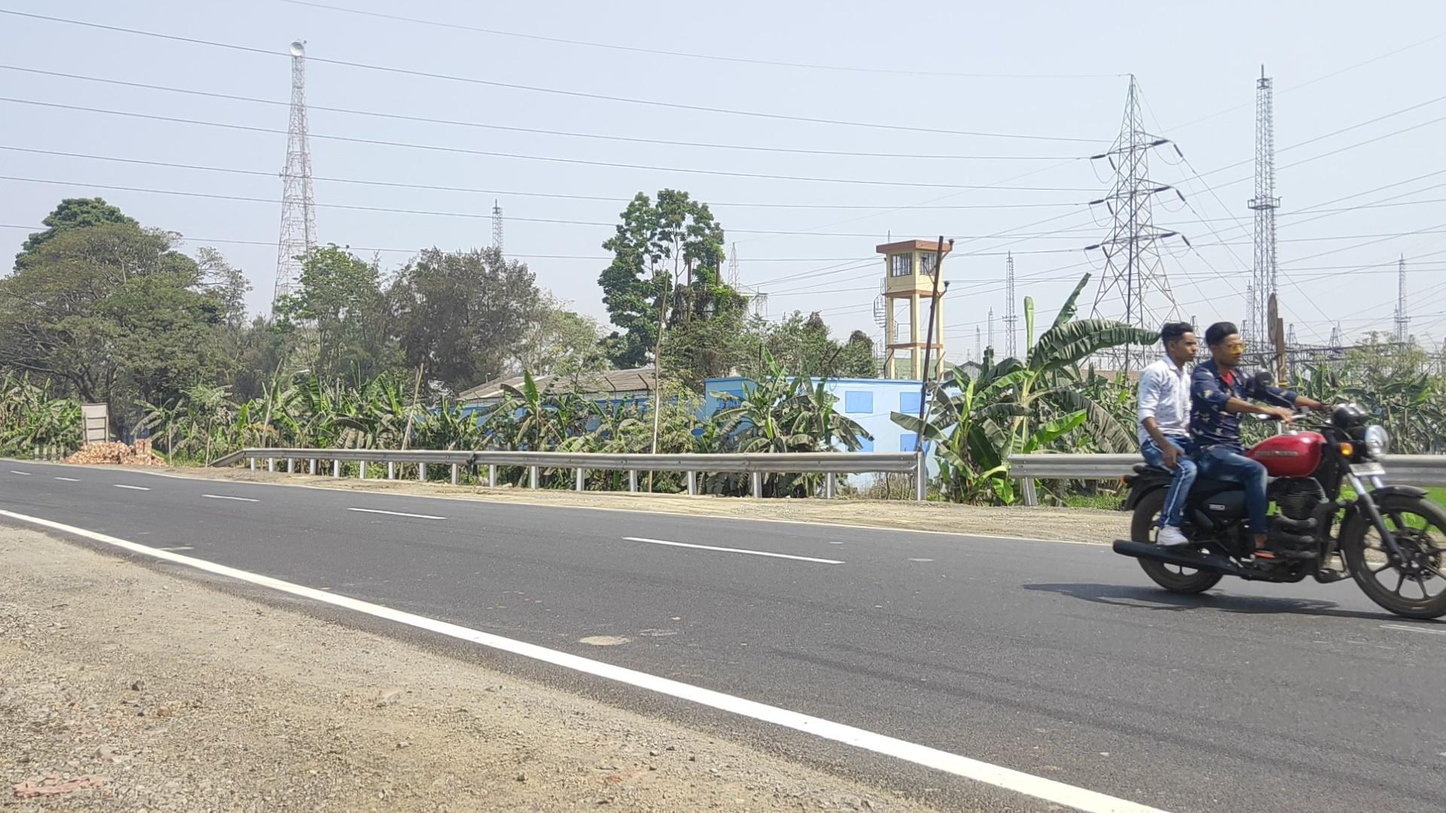bike: (1112, 321, 1446, 620)
